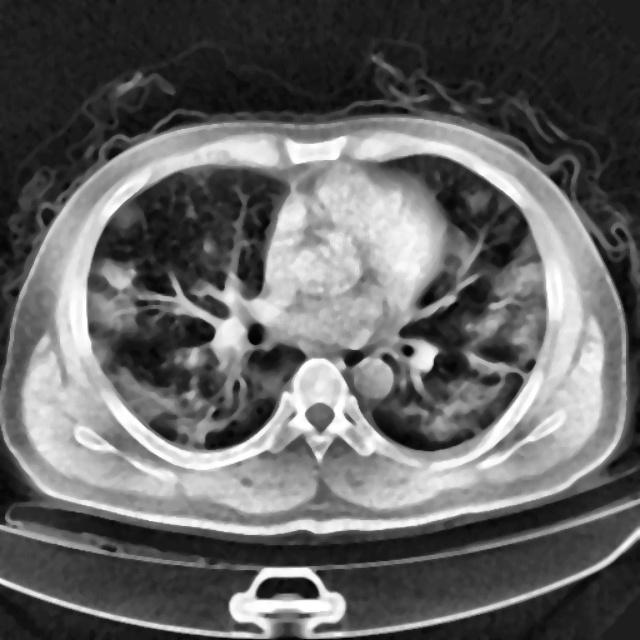covid: (1, 105, 631, 542)
